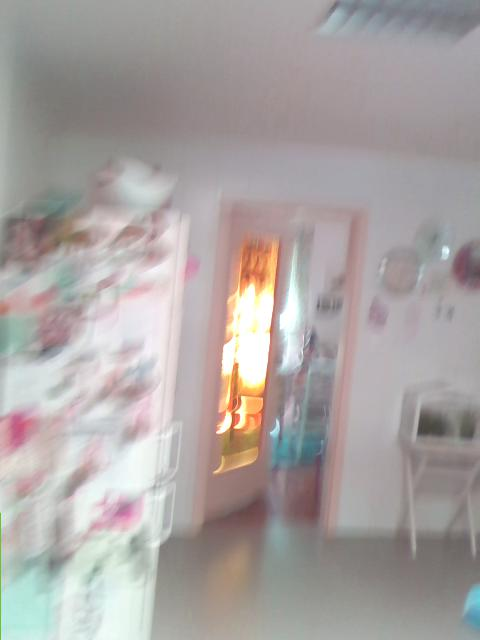semi_door: (185, 185, 372, 541)
